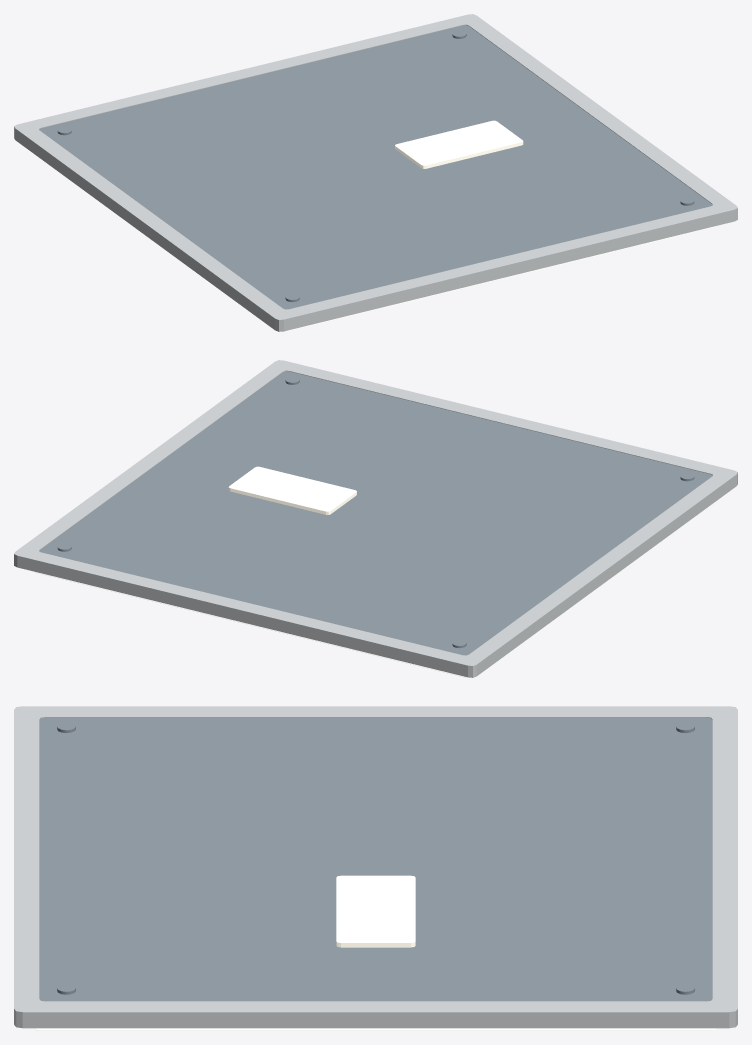
The model's file is source.glb.
3 renders of one model, top to bottom at view 1: azimuth 30°, elevation 25°; view 2: azimuth 150°, elevation 25°; view 3: azimuth 270°, elevation 25°, orthographic. The views are drawn at different scales.
Visible parts, largest first — view 1: 机加工金属, 粉末涂层铝壳, Emitters; view 2: 机加工金属, 粉末涂层铝壳, Emitters; view 3: 机加工金属, 粉末涂层铝壳, Emitters.
Part boxes in pixels (x1,y1,x2,y2): 机加工金属: (39,25,712,309); 粉末涂层铝壳: (14,14,737,331); Emitters: (284,120,716,331); 机加工金属: (39,371,712,655); 粉末涂层铝壳: (14,360,737,677); Emitters: (35,466,467,677); 机加工金属: (39,717,712,1001); 粉末涂层铝壳: (14,706,737,1028); Emitters: (35,875,716,1030).
Size of the model in its own units: 0.6 by 0.0299 by 0.6.
